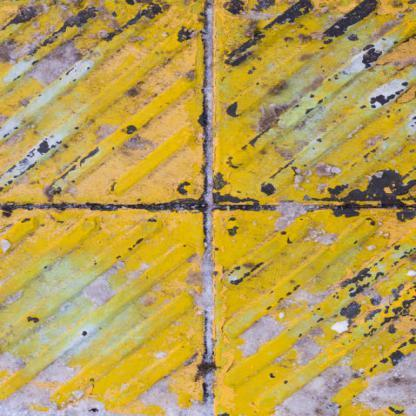podotacti: (5, 3, 412, 416)
